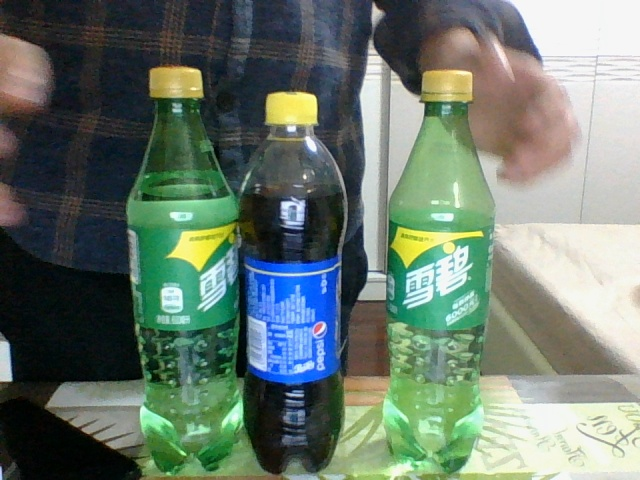Cola: (238, 88, 351, 474)
Sprite: (123, 63, 238, 476), (385, 68, 497, 468)
